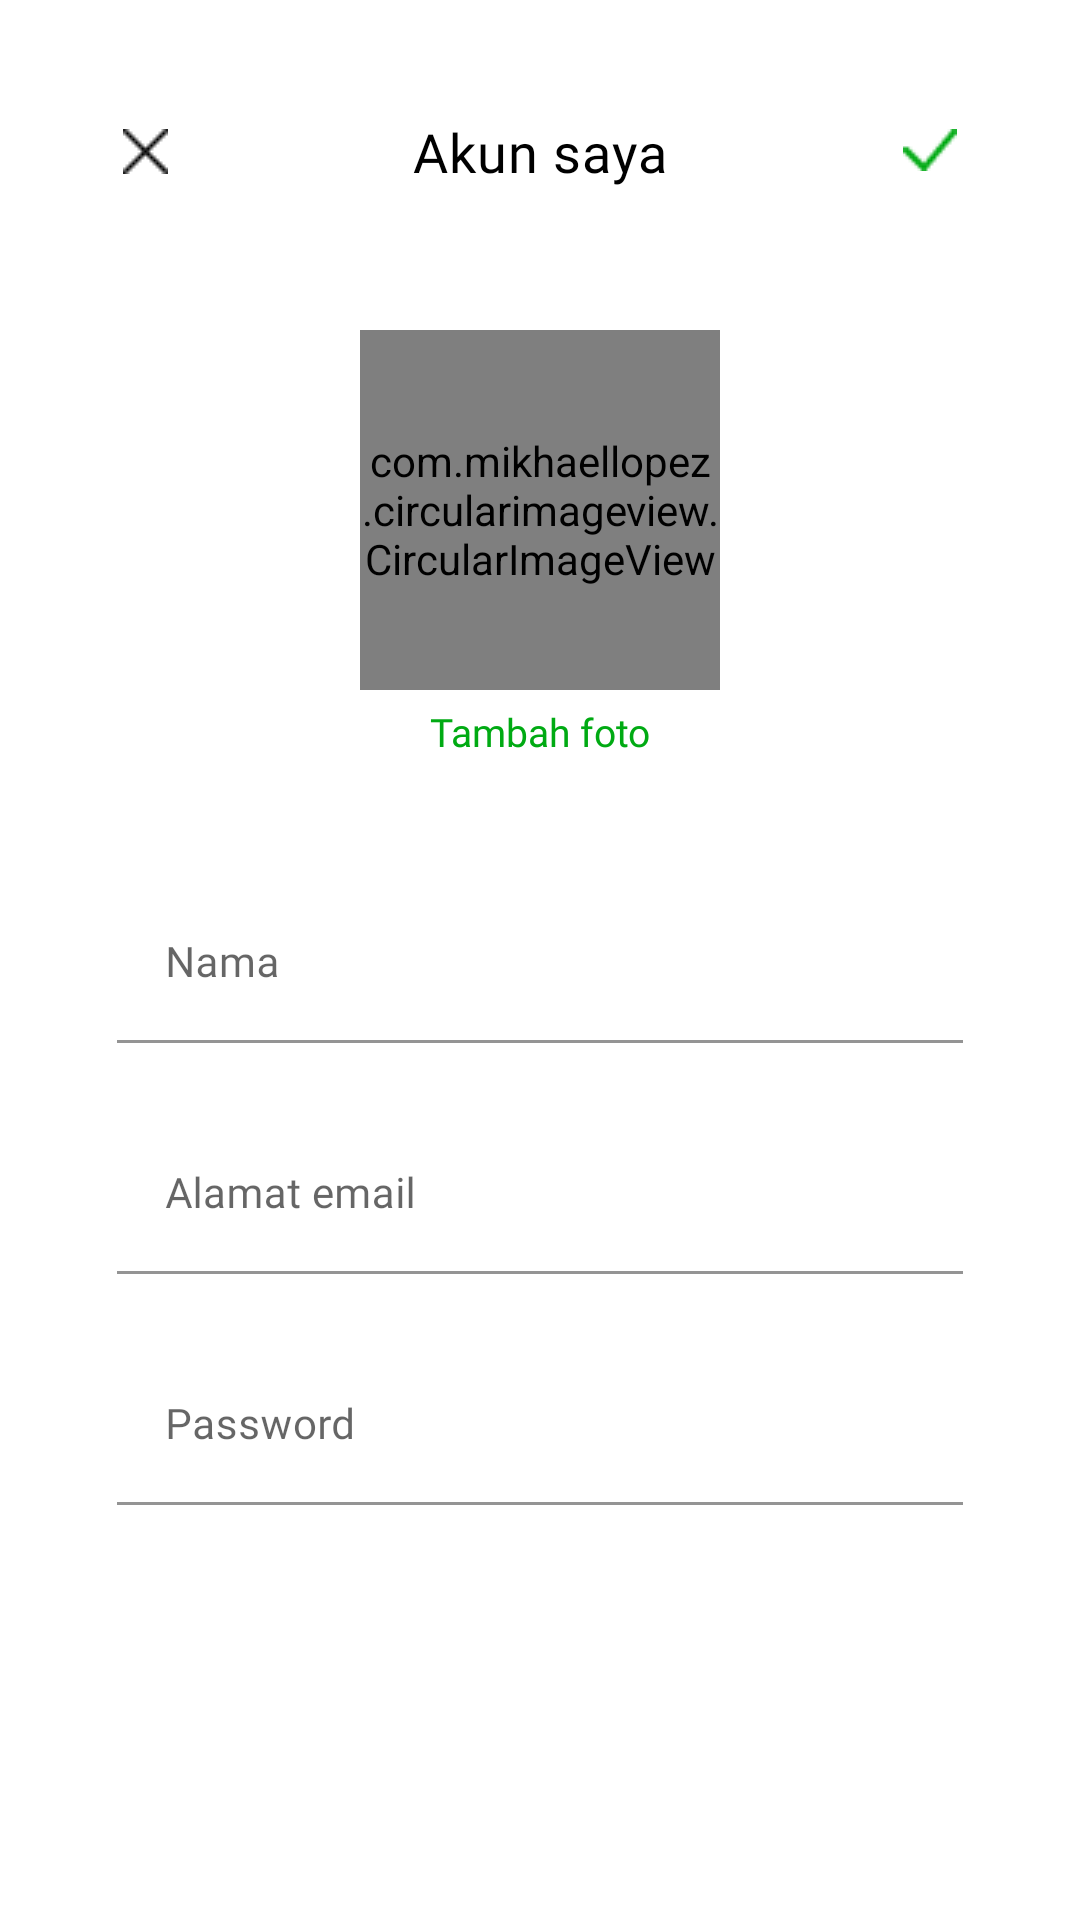

Screen size 1080px×1920px. Icon name, then its box in pixels as [x1,y1,x2,y2]:
check: [903,129,957,171]
